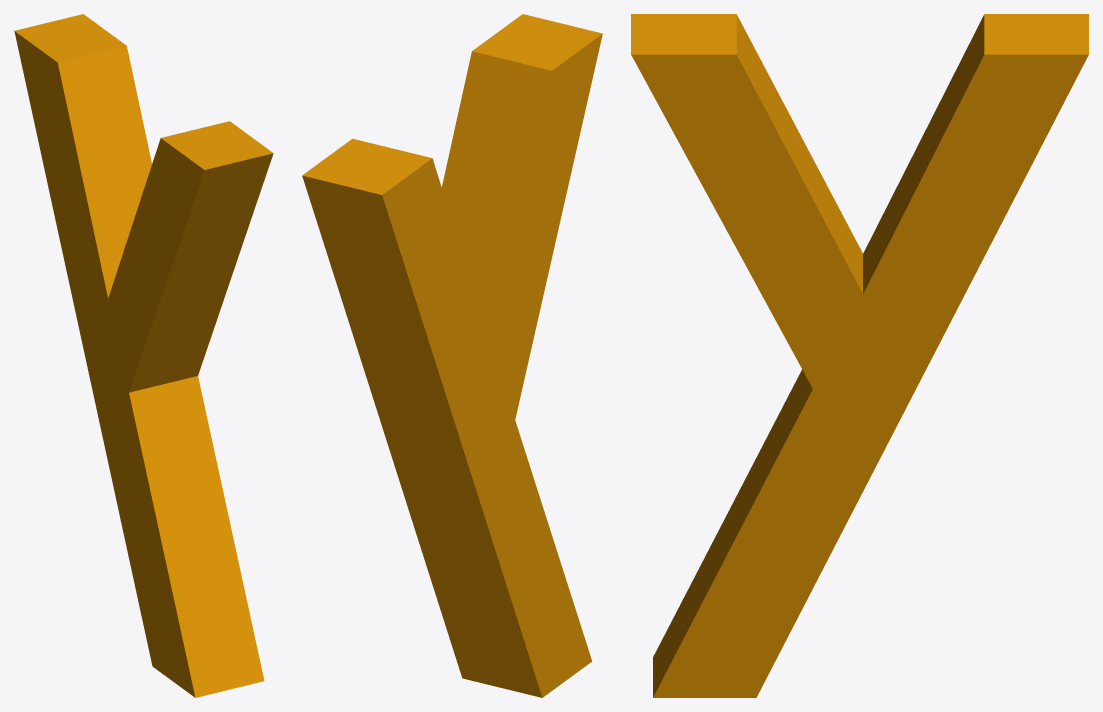
Rendered from letter(y).fbx.
3 renders of one model, left to right at view 1: azimuth 30°, elevation 25°; view 2: azimuth 150°, elevation 25°; view 3: azimuth 270°, elevation 25°, orthographic. The views are drawn at different scales.
Parts seen in each view (by area): view 1: Text; view 2: Text; view 3: Text.
Part boxes in pixels (box(x1,y1,x2,y2)): Text: box(14, 14, 273, 697); Text: box(302, 14, 602, 697); Text: box(631, 14, 1088, 697).
Bounding box in the file's own units: 9.18 × 67.9 × 43.8.
